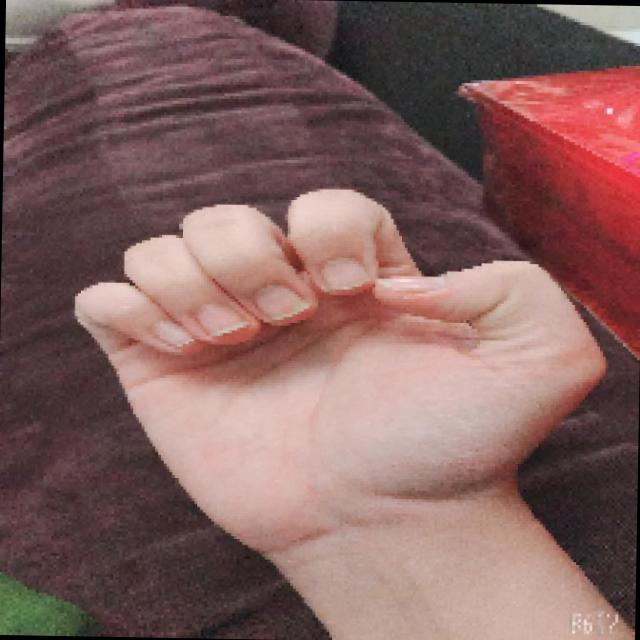Nail: (254, 284, 308, 320), (321, 257, 371, 291), (196, 303, 247, 336), (374, 275, 446, 293), (152, 319, 195, 347)
